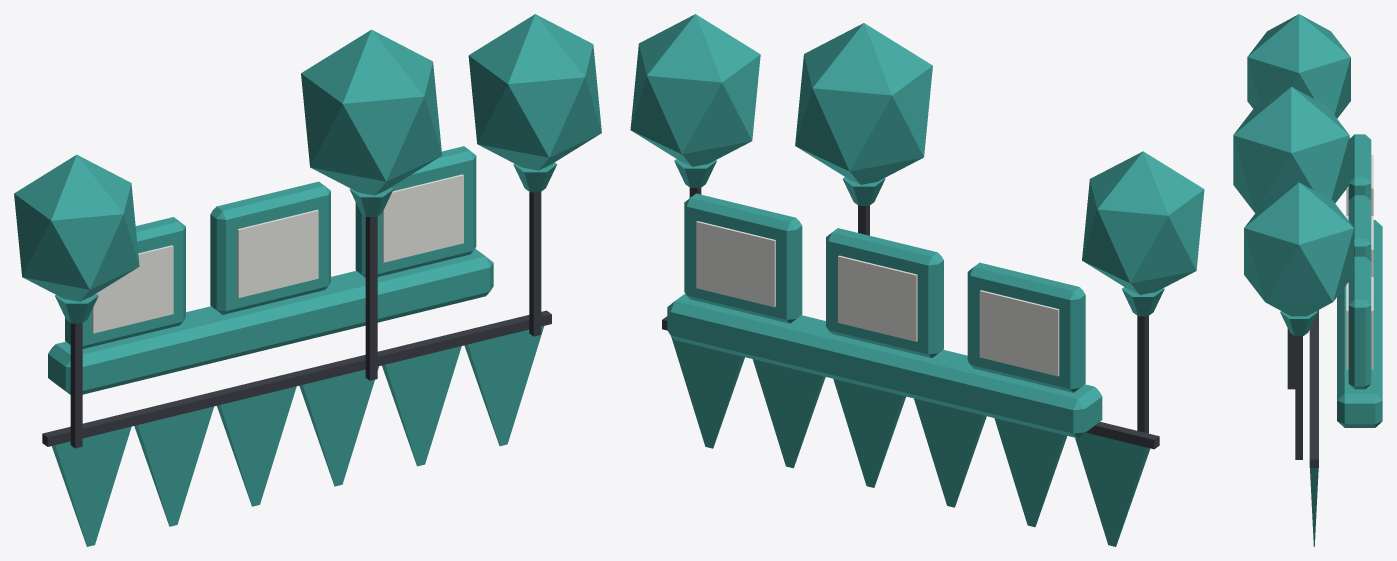
File: poster_m0_2.glb
3 views of the same model, side by side, from view 1: azimuth 30°, elevation 25°; view 2: azimuth 150°, elevation 25°; view 3: azimuth 270°, elevation 25° (orthographic). The views are drawn at different scales.
Visible parts, largest first — view 1: poster_m0_2_mesh; view 2: poster_m0_2_mesh; view 3: poster_m0_2_mesh.
Boxes of the visible parts, x1,y1,x2,y2 form: poster_m0_2_mesh: (14, 14, 601, 546); poster_m0_2_mesh: (630, 14, 1204, 546); poster_m0_2_mesh: (1233, 14, 1382, 546).
Size of the model in its own units: 0.7476 by 0.5762 by 0.1966.
